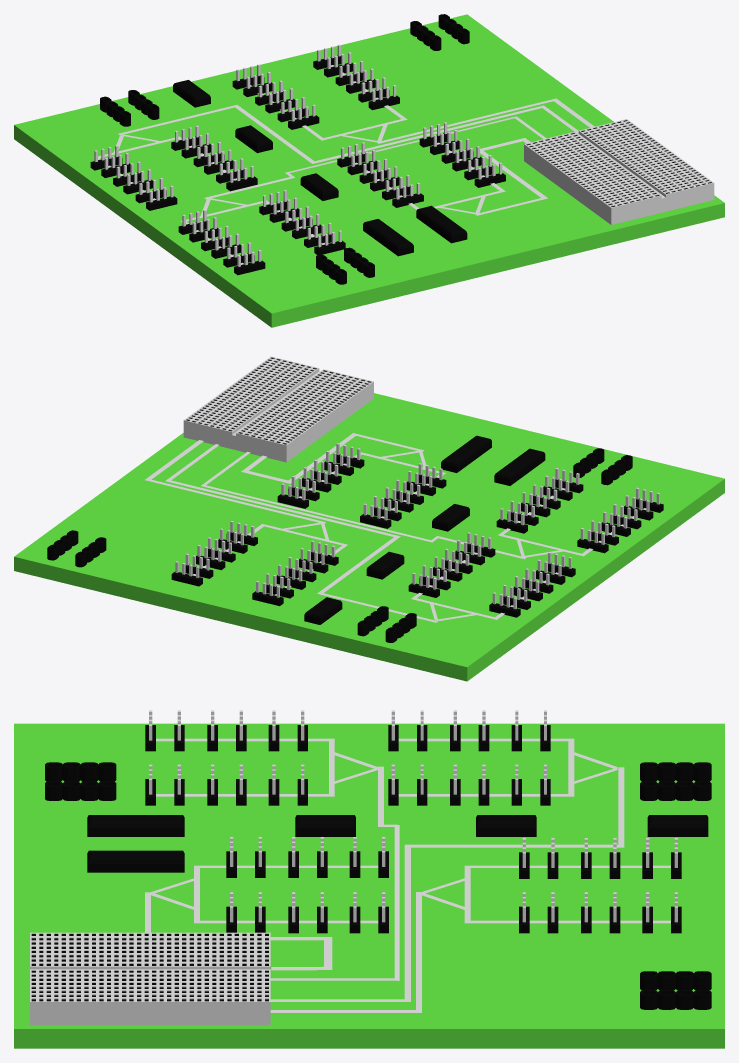
File: obiect_deea2.fbx
3 renders of one model, top to bottom at view 1: azimuth 30°, elevation 25°; view 2: azimuth 150°, elevation 25°; view 3: azimuth 270°, elevation 25°, orthographic. The views are drawn at different scales.
Visible parts, largest first — view 1: Cube.007; view 2: Cube.007; view 3: Cube.007.
Boxes of the visible parts, x1,y1,x2,y2 form: Cube.007: (14,14,724,327); Cube.007: (14,356,724,681); Cube.007: (14,710,724,1048).
Bounding box in the file's own units: 230 × 15.39 × 227.
